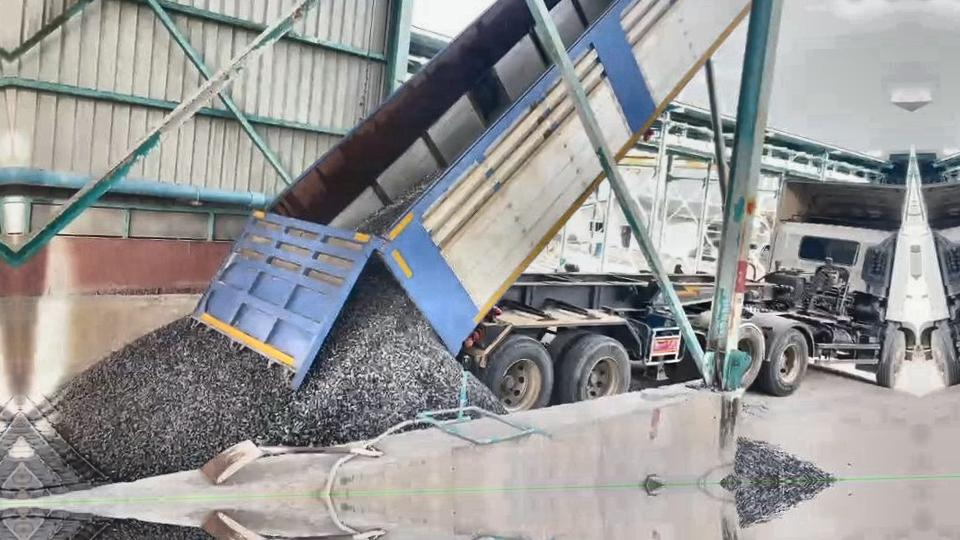gravel: (50, 259, 461, 480), (356, 170, 442, 232), (723, 439, 833, 482), (469, 377, 502, 411)
